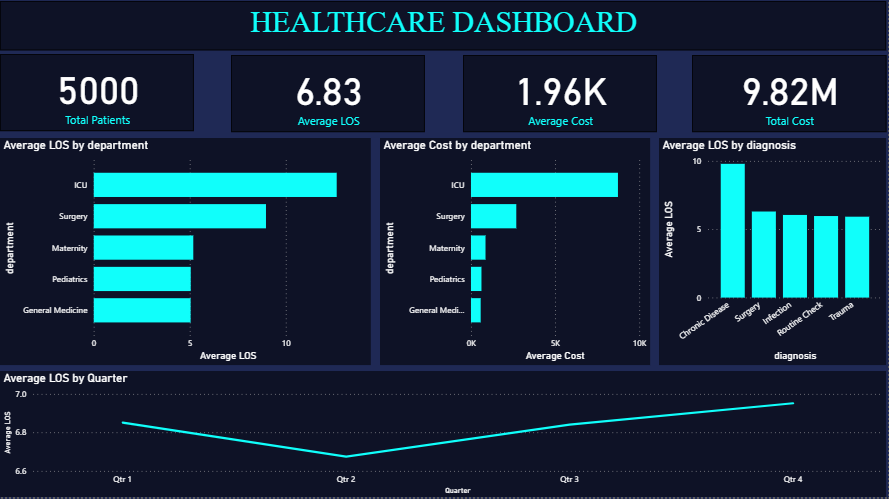

This screenshot's page, from the dashboard's own definition file:
{"tool":"powerbi","page":{"name":"Page 1","canvas":[1280,720],"ordinal":0},"visuals":[{"type":"card","fields":{"Values":["public hospital_admissions.Total Patients"]},"box":[0,82.1,279.4,110.9],"z":0},{"type":"card","fields":{"Values":["public hospital_admissions.Average LOS"]},"box":[332.6,83.5,279.4,110.9],"z":1000},{"type":"card","fields":{"Values":["public hospital_admissions.Average Cost"]},"box":[666.7,83.5,279.4,110.9],"z":2000},{"type":"card","fields":{"Values":["public hospital_admissions.Total Cost"]},"box":[996.8,83.5,279.6,110.8],"z":3000},{"type":"clusteredBarChart","fields":{"Category":["public hospital_admissions.department"],"Y":["public hospital_admissions.Average LOS"]},"box":[0,203,534.2,326.9],"z":4000},{"type":"clusteredBarChart","fields":{"Category":["public hospital_admissions.department"],"Y":["public hospital_admissions.Average Cost"]},"box":[546.5,203.3,388.5,326.8],"z":5000},{"type":"clusteredColumnChart","fields":{"Category":["public hospital_admissions.diagnosis"],"Y":["public hospital_admissions.Average LOS"]},"box":[949.6,203.3,326.8,326.8],"z":6000},{"type":"lineChart","fields":{"Category":["public hospital_admissions.Admission Month.Variation.Date Hierarchy.Quarter","public hospital_admissions.Admission Month.Variation.Date Hierarchy.Month","public hospital_admissions.Admission Month.Variation.Date Hierarchy.Day"],"Y":["public hospital_admissions.Average LOS"]},"box":[0,538.6,1275.8,182.9],"z":7000},{"type":"textbox","box":[0,5.8,1275.8,70.6],"z":8000}]}

Visuals, with their boxes in screenshot pixels (x1, y1, x2, y2), scaled from the page's 1280x720 canvas onto the 889x499 screenshot:
card - public hospital_admissions.Total Patients: (x1=0, y1=57, x2=194, y2=134)
card - public hospital_admissions.Average LOS: (x1=231, y1=58, x2=425, y2=135)
card - public hospital_admissions.Average Cost: (x1=463, y1=58, x2=657, y2=135)
card - public hospital_admissions.Total Cost: (x1=692, y1=58, x2=886, y2=135)
clusteredBarChart - public hospital_admissions.department x public hospital_admissions.Average LOS: (x1=0, y1=141, x2=371, y2=367)
clusteredBarChart - public hospital_admissions.department x public hospital_admissions.Average Cost: (x1=380, y1=141, x2=649, y2=367)
clusteredColumnChart - public hospital_admissions.diagnosis x public hospital_admissions.Average LOS: (x1=660, y1=141, x2=886, y2=367)
lineChart - public hospital_admissions.Admission Month.Variation.Date Hierarchy.Quarter x public hospital_admissions.Admission Month.Variation.Date Hierarchy.Month: (x1=0, y1=373, x2=886, y2=498)
textbox: (x1=0, y1=4, x2=886, y2=53)
